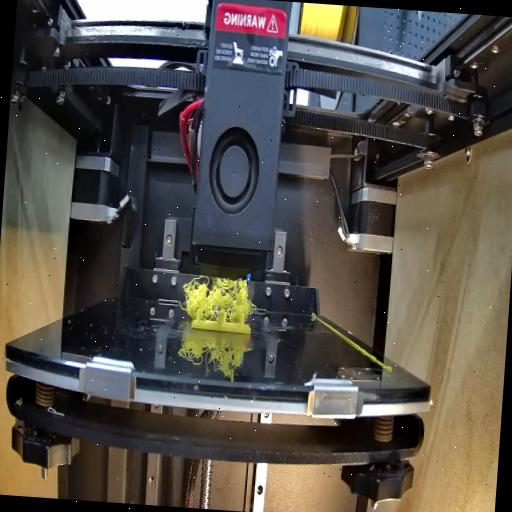spaghetti: (182, 264, 260, 322)
